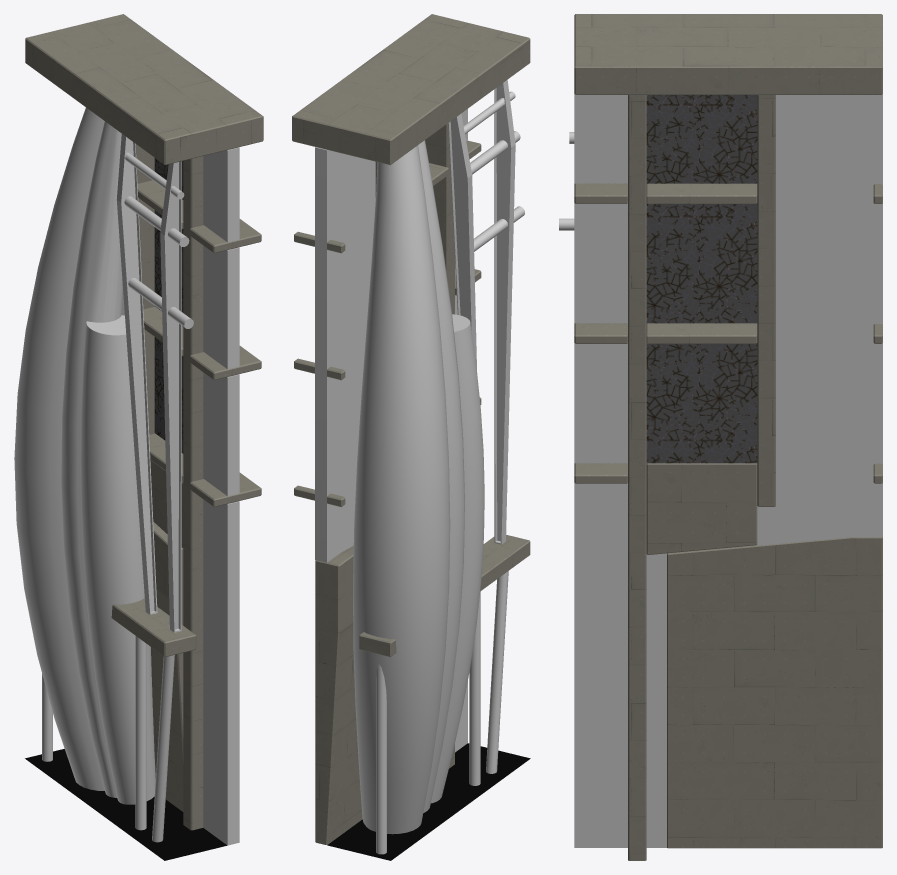
Rendered from WallWindow.fbx.
The picture shows the model from 3 angles, left to right: view 1: azimuth 30°, elevation 25°; view 2: azimuth 150°, elevation 25°; view 3: azimuth 270°, elevation 25°; orthographic projection. The views are drawn at different scales.
Parts seen in each view (by area): view 1: WallWindow, Column01, Ladder, Floor, Pit3, GlassInner; view 2: Column01, WallWindow, Ladder, Floor, Pit3; view 3: WallWindow, GlassOuter.
Part boxes in pixels (x1,y1,x2,y2): WallWindow: (25, 14, 263, 845); Column01: (14, 107, 155, 804); Ladder: (116, 134, 193, 632); Floor: (42, 598, 196, 842); Pit3: (25, 749, 226, 860); GlassInner: (154, 158, 183, 453); Column01: (353, 140, 484, 834); WallWindow: (292, 14, 530, 844); Ladder: (448, 80, 524, 544); Floor: (359, 534, 530, 854); Pit3: (327, 743, 530, 860); WallWindow: (574, 14, 882, 860); GlassOuter: (646, 95, 757, 463).
Size of the model in its own units: 263 by 1429 by 525.
